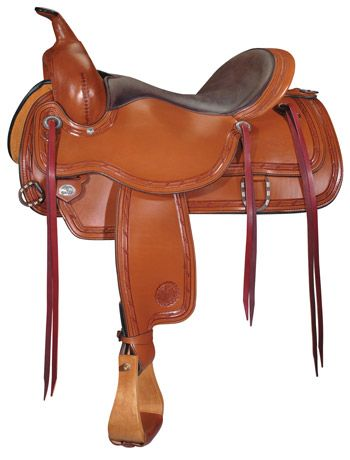saddle: (17, 9, 344, 387), (17, 9, 344, 383)
